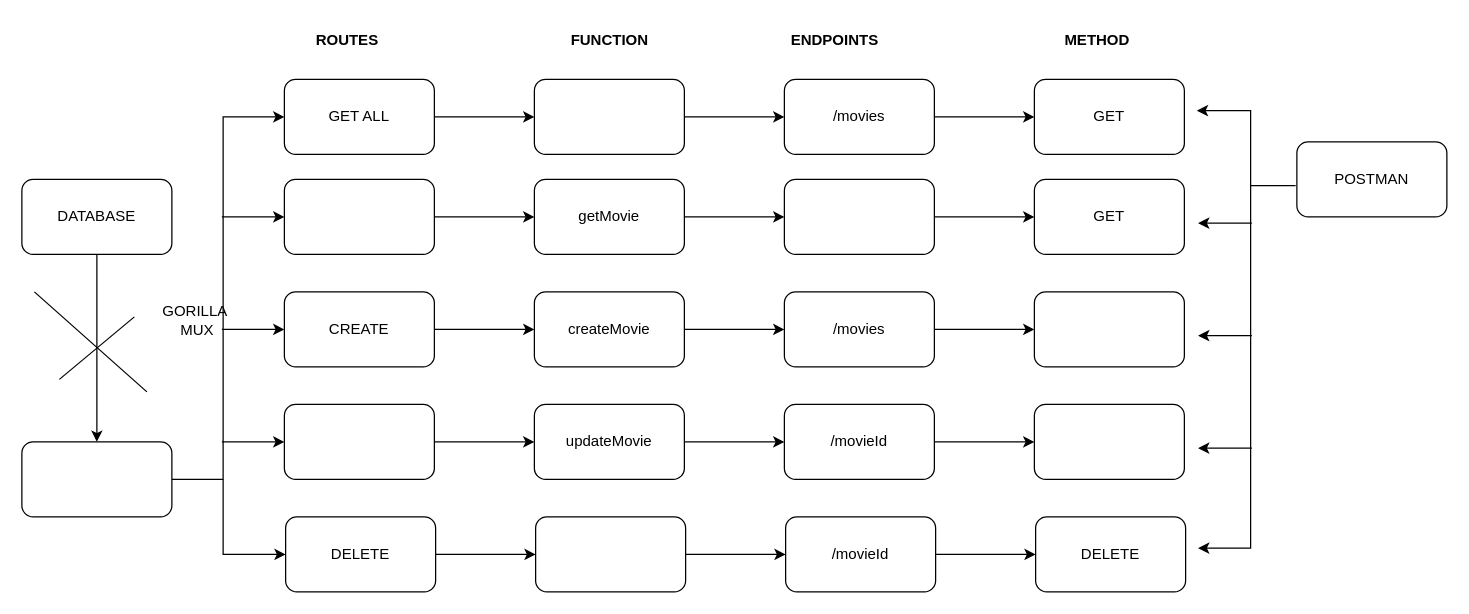
This 1469x614 diagram has some shape labels left out. Each missing label, with the box of its shape:
/MmovieId: (783, 178, 934, 254)
deleteMovie: (534, 516, 686, 592)
GET BY ID: (283, 178, 434, 254)
getMovies: (533, 78, 684, 154)
MOVIE SERVER: (21, 441, 172, 517)
POST: (1033, 291, 1184, 367)
PUT: (1033, 403, 1184, 479)
UPDATE: (283, 403, 434, 479)
